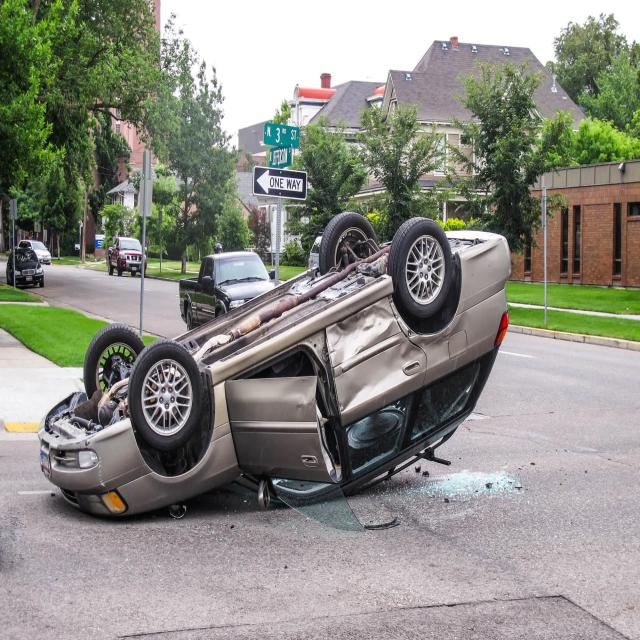Accident: (37, 205, 510, 520)
